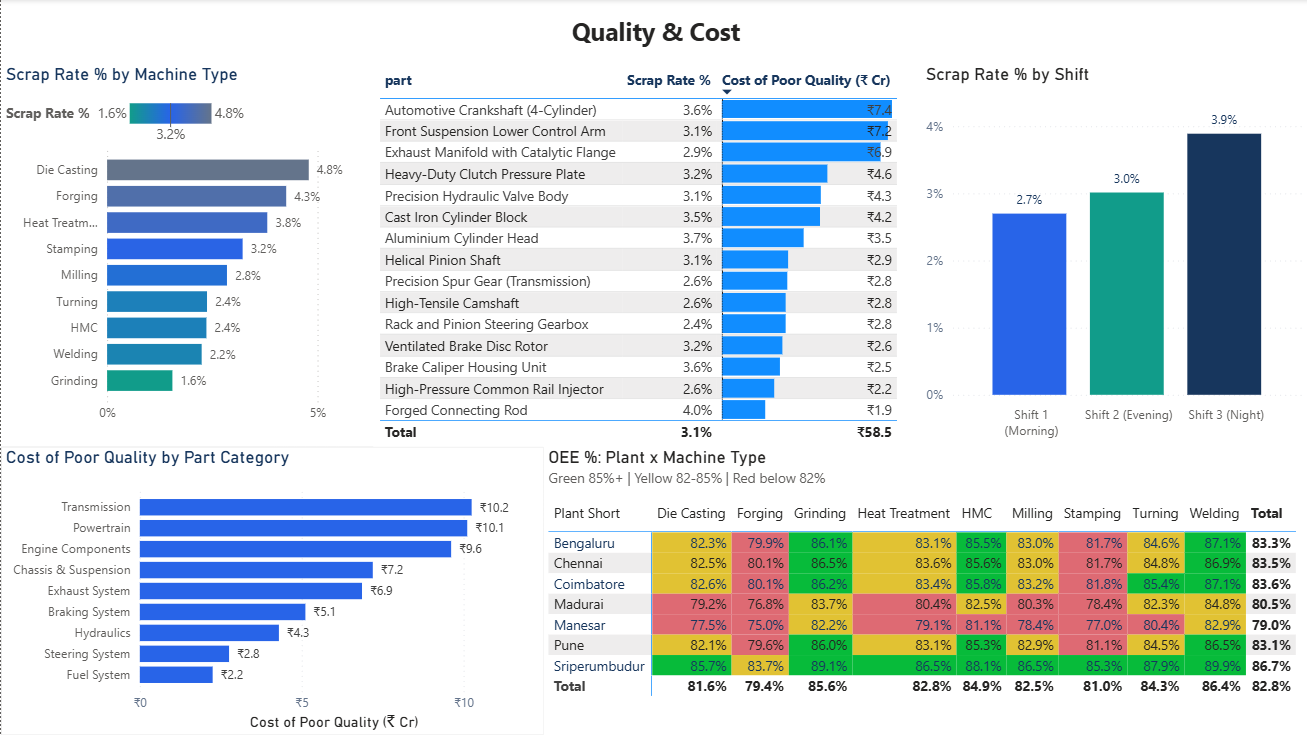

Layout of this report page (visuals, bound fields, positions):
{"tool":"powerbi","page":{"name":"Quality & Cost","canvas":[1280,720],"ordinal":2},"visuals":[{"type":"barChart","title":"Scrap Rate % by Machine Type","fields":{"Category":["dim_machines.operation_type"],"Y":["Measures (2).Scrap Rate %"]},"box":[0,63.1,365,359.5],"z":0},{"type":"barChart","title":"Cost of Poor Quality by Part Category","fields":{"Category":["dim_parts.category"],"Y":["Measures (2).Cost of Poor Quality (Cr)"]},"box":[0,437.7,531,282.7],"z":1000},{"type":"tableEx","fields":{"Values":["dim_parts.part_name","Measures (2).Scrap Rate %","Measures (2).Cost of Poor Quality (Cr)"]},"box":[365,63.1,535.2,374.6],"z":2000},{"type":"columnChart","title":"Scrap Rate % by Shift","fields":{"Category":["dim_shifts.shift_name"],"Y":["Measures (2).Scrap Rate %"]},"box":[900.2,63.1,380.1,374.6],"z":3000},{"type":"pivotTable","title":"OEE %: Plant x Machine Type","fields":{"Columns":["dim_machines.operation_type"],"Rows":["dim_plants.Plant Short"],"Values":["Measures (2).OEE %"]},"box":[531,437.7,749.2,282.7],"z":4000},{"type":"textbox","box":[1.4,11,1278.9,52.1],"z":5000}]}

Visuals, with their boxes in screenshot pixels (x1, y1, x2, y2), scaled from the page's 1280x720 canvas onto the 1307x735 screenshot:
"Scrap Rate % by Machine Type" barChart: box(0, 64, 373, 431)
"Cost of Poor Quality by Part Category" barChart: box(0, 447, 542, 734)
tableEx - dim_parts.part_name x Measures (2).Scrap Rate %: box(373, 64, 919, 447)
"Scrap Rate % by Shift" columnChart: box(919, 64, 1306, 447)
"OEE %: Plant x Machine Type" pivotTable: box(542, 447, 1306, 734)
textbox: box(1, 11, 1306, 64)
